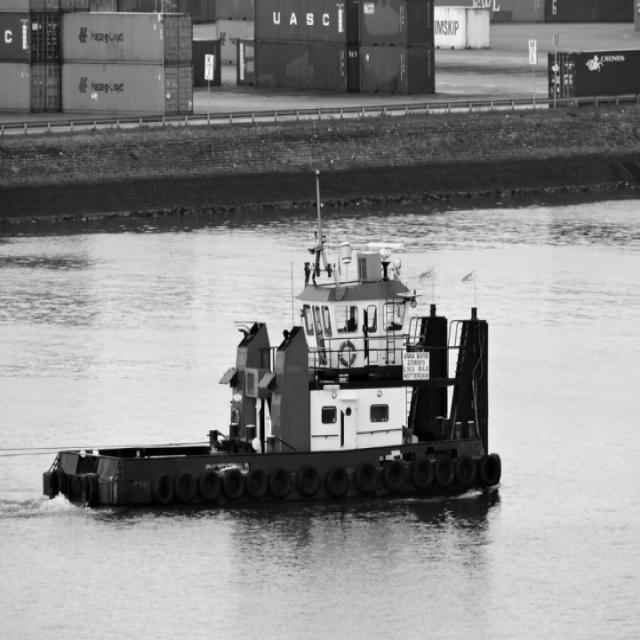tugboat: (38, 238, 507, 533)
